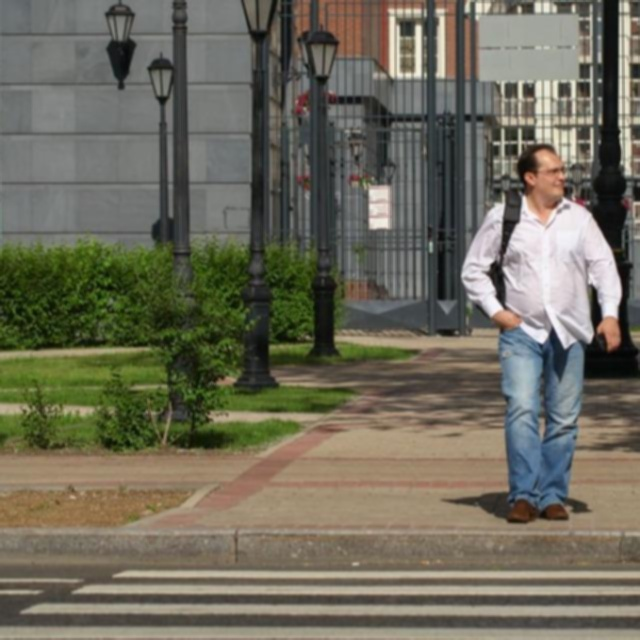Sin_Casco_Mascarrilla: (516, 143, 569, 200)
Sin_Chaleco: (494, 198, 590, 342)
